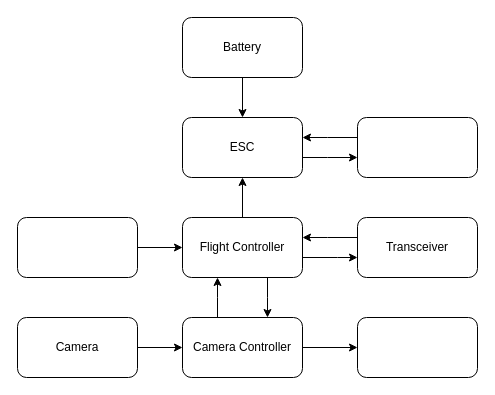
Some shapes in this 495 by 395 pixel diagram are drawn without their labels. The shapes that lost their labels are listed below. From the top down, each one's centre as x and y in pixels, then its label:
[417,147]: Brushless Motors
[77,247]: Motion Sensors
[417,347]: Camera Transmitter
